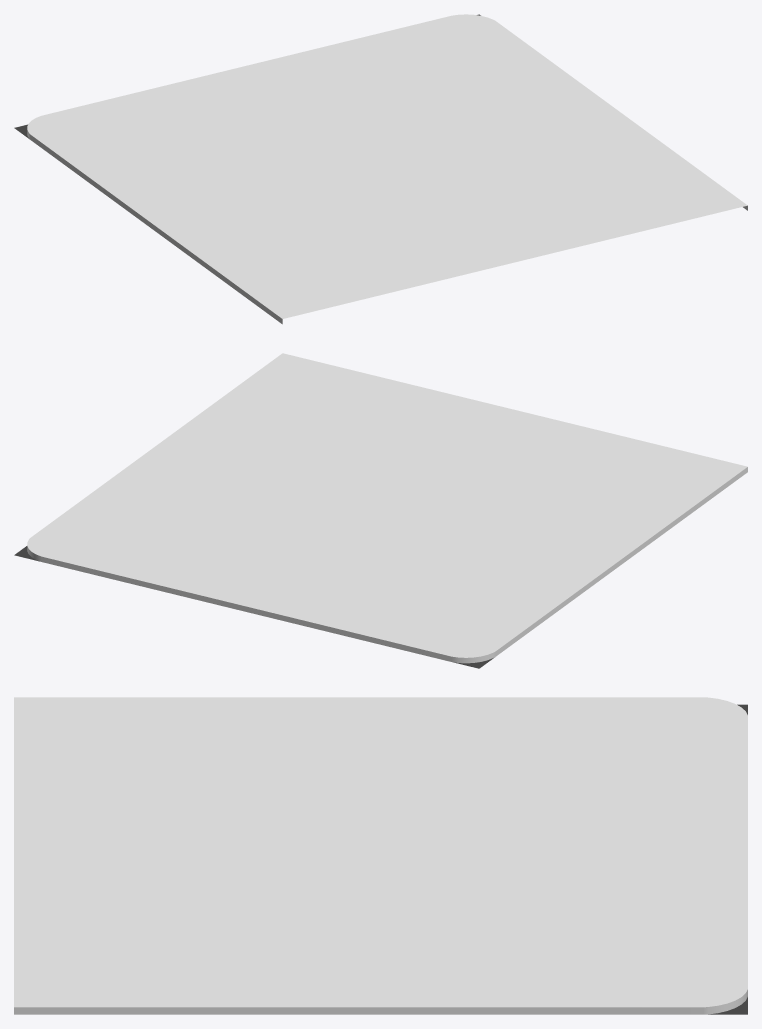
File: pavement intersection dual edge.fbx
3 renders of one model, top to bottom at view 1: azimuth 30°, elevation 25°; view 2: azimuth 150°, elevation 25°; view 3: azimuth 270°, elevation 25°, orthographic. The views are drawn at different scales.
Visible parts, largest first — view 1: pavement_intersection_dual_edge; view 2: pavement_intersection_dual_edge; view 3: pavement_intersection_dual_edge.
Boxes of the visible parts, x1,y1,x2,y2 form: pavement_intersection_dual_edge: [14, 14, 747, 324]; pavement_intersection_dual_edge: [14, 353, 747, 668]; pavement_intersection_dual_edge: [14, 697, 747, 1014].
Size of the model in its own units: 1000 by 11.2 by 1000.
